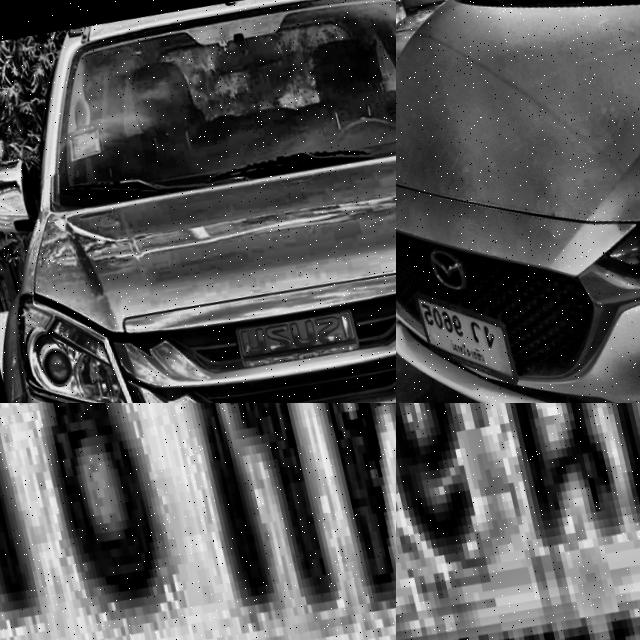license-plate: (0, 403, 396, 640), (396, 403, 640, 640), (408, 270, 518, 399)
